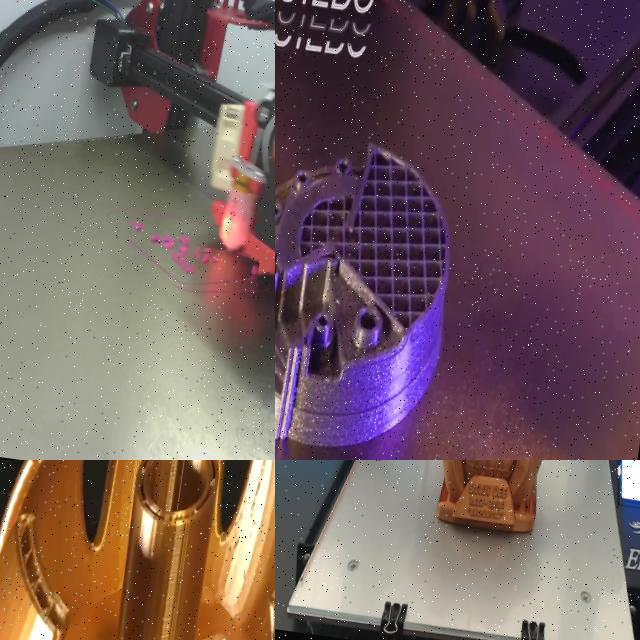spaghetti: (129, 238, 257, 289), (172, 237, 195, 275), (152, 235, 175, 250), (193, 251, 210, 264), (132, 222, 143, 231)
